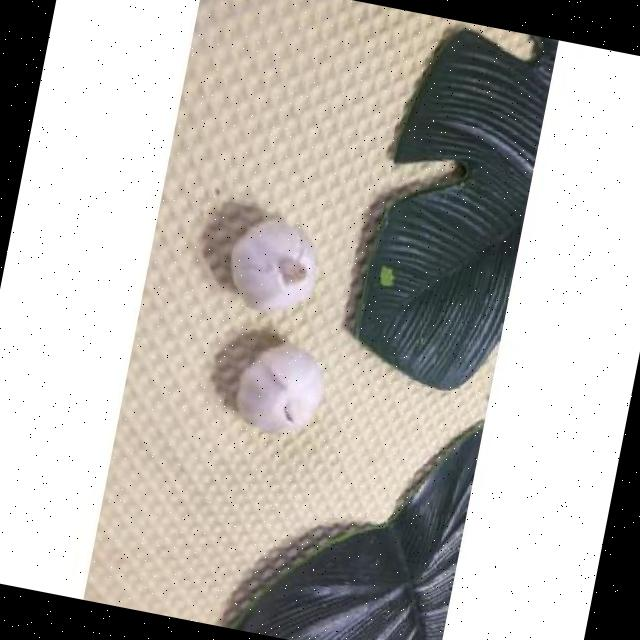garlic: (231, 220, 316, 312), (236, 345, 323, 433)
